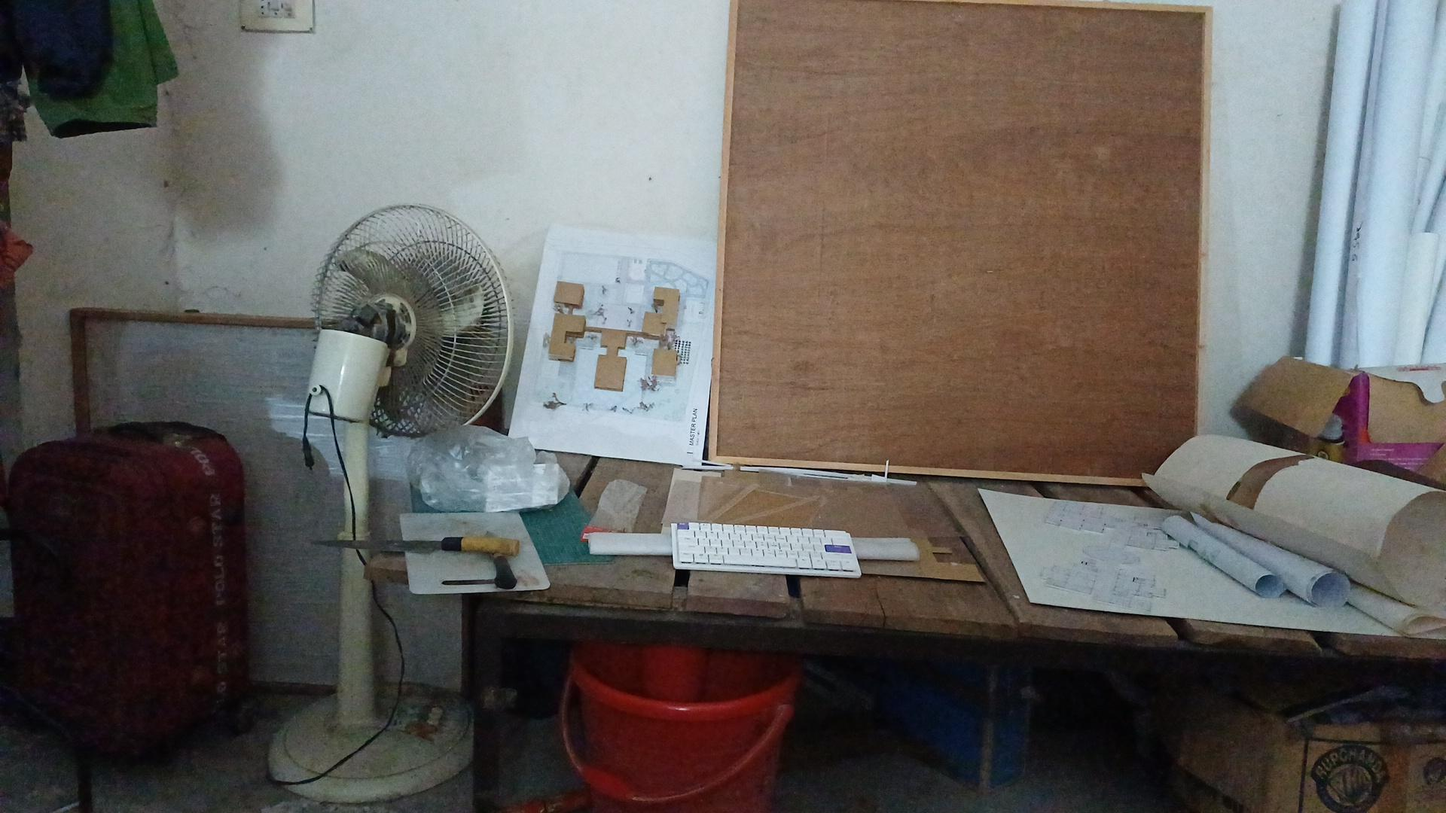Box: (1137, 647, 1446, 804)
Bucket: (535, 637, 809, 797)
Fan: (291, 200, 505, 604)
Keyboard: (663, 503, 876, 587)
Knife: (289, 524, 538, 600)
Photo: (530, 226, 728, 482)
